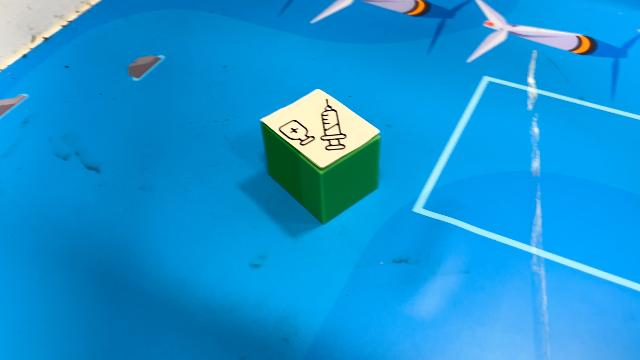syringe: (258, 86, 382, 226)
